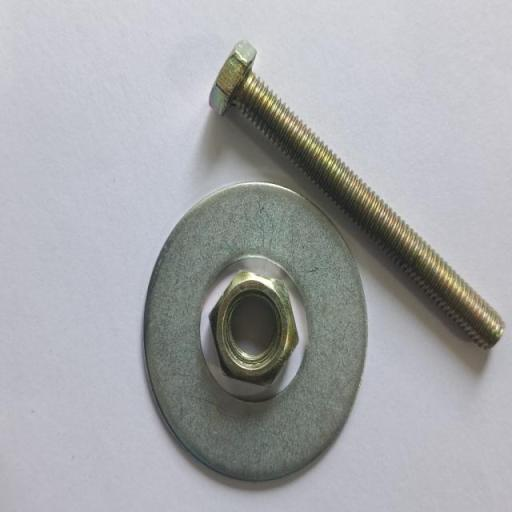Bolt: (208, 39, 505, 350)
Nut: (210, 271, 300, 394)
Washer: (142, 181, 368, 483)
